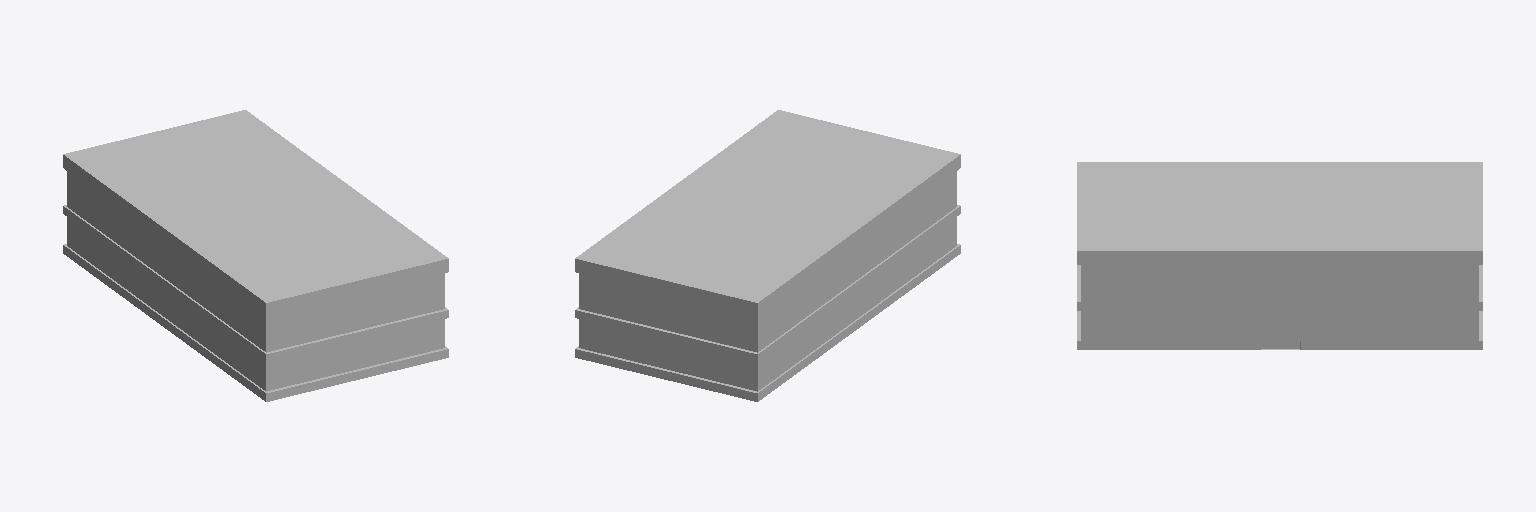
The model's file is Airport.obj.
3 renders of one model, left to right at view 1: azimuth 30°, elevation 25°; view 2: azimuth 150°, elevation 25°; view 3: azimuth 270°, elevation 25°, orthographic.
Visible parts, largest first — view 1: pCube1; view 2: pCube1; view 3: pCube1.
Part boxes in pixels (x1,y1,x2,y2): pCube1: (63, 110, 448, 401); pCube1: (575, 110, 960, 401); pCube1: (1077, 162, 1482, 349).
Size of the model in its own units: 38.58 by 20 by 74.35.